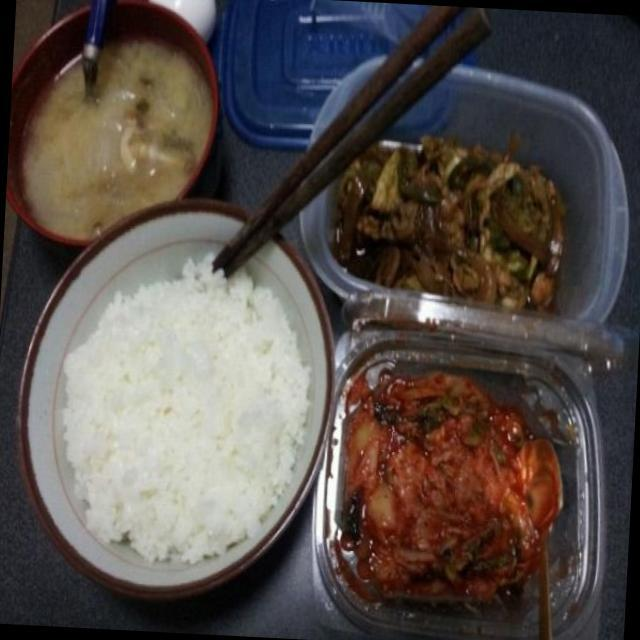Rice: (60, 252, 304, 558)
